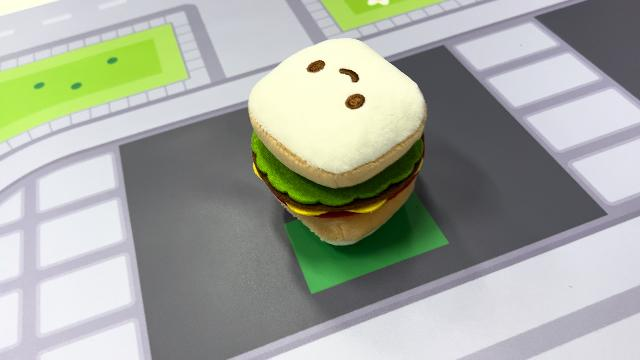sandwich: (245, 35, 430, 246)
